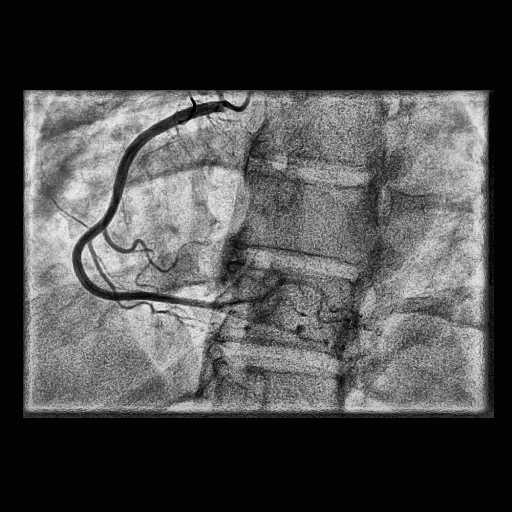pborca: (221, 279, 326, 308)
pda: (222, 308, 327, 345)
rca: (73, 101, 224, 313)
